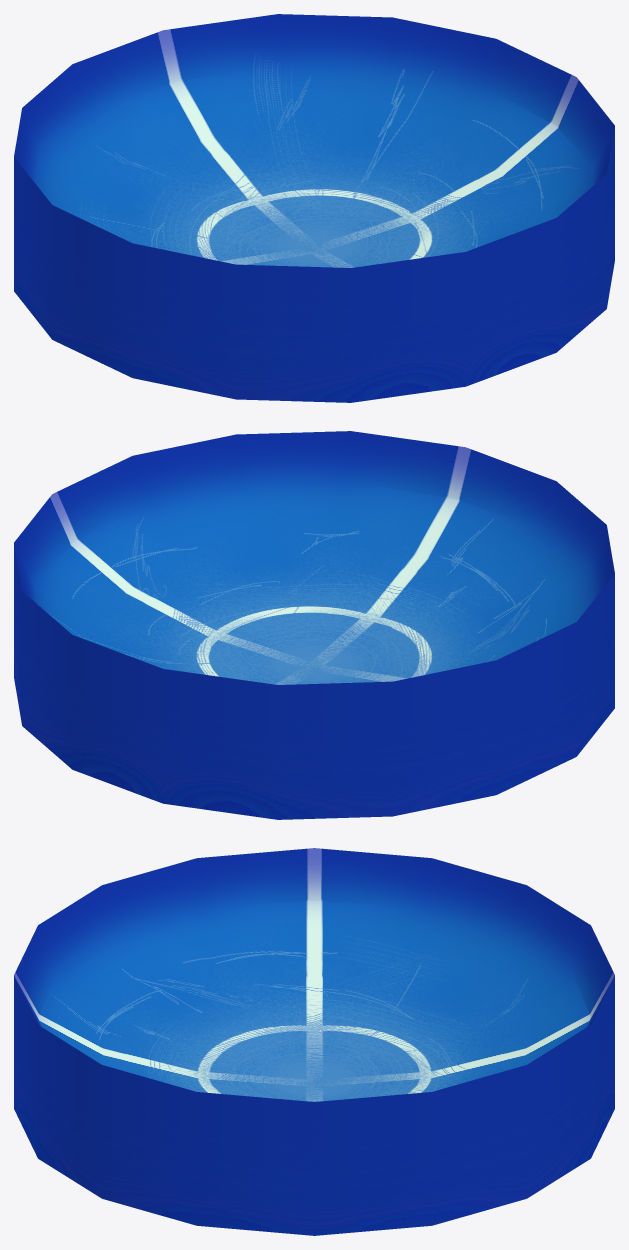
The model's file is arena.glb.
3 renders of one model, top to bottom at view 1: azimuth 30°, elevation 25°; view 2: azimuth 150°, elevation 25°; view 3: azimuth 270°, elevation 25°, orthographic.
Visible parts, largest first — view 1: Geo_Arena; view 2: Geo_Arena; view 3: Geo_Arena.
Boxes of the visible parts, x1=… form: Geo_Arena: x1=14, y1=14, x2=614, y2=402; Geo_Arena: x1=14, y1=431, x2=614, y2=819; Geo_Arena: x1=14, y1=848, x2=614, y2=1235.
Size of what is drawn, in the model's own units: 5 by 1.23 by 5.
Materials: 1 (1 with a texture image).
